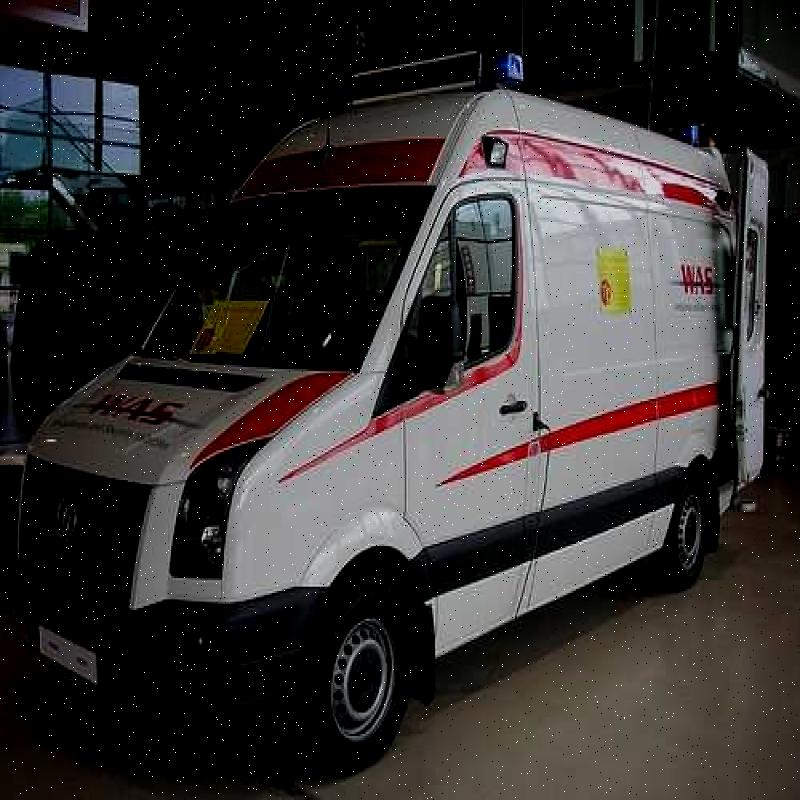AmbulanceSiren: (346, 56, 536, 97)
